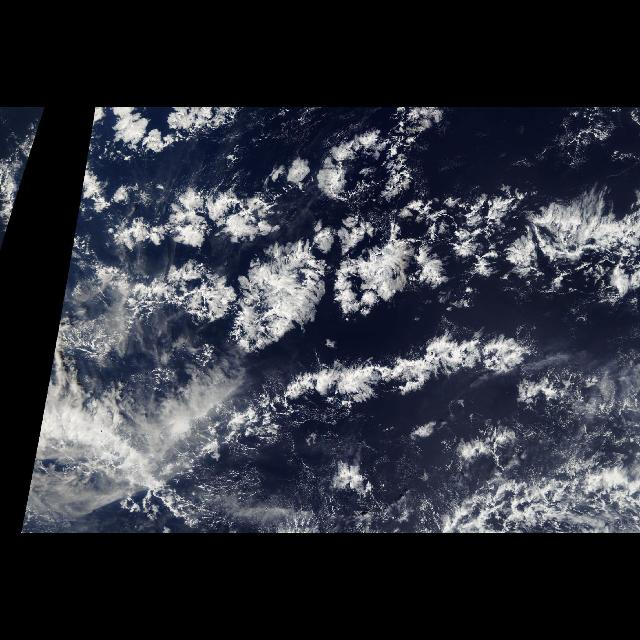Fish: (93, 324, 561, 494)
Flower: (86, 107, 554, 361)
